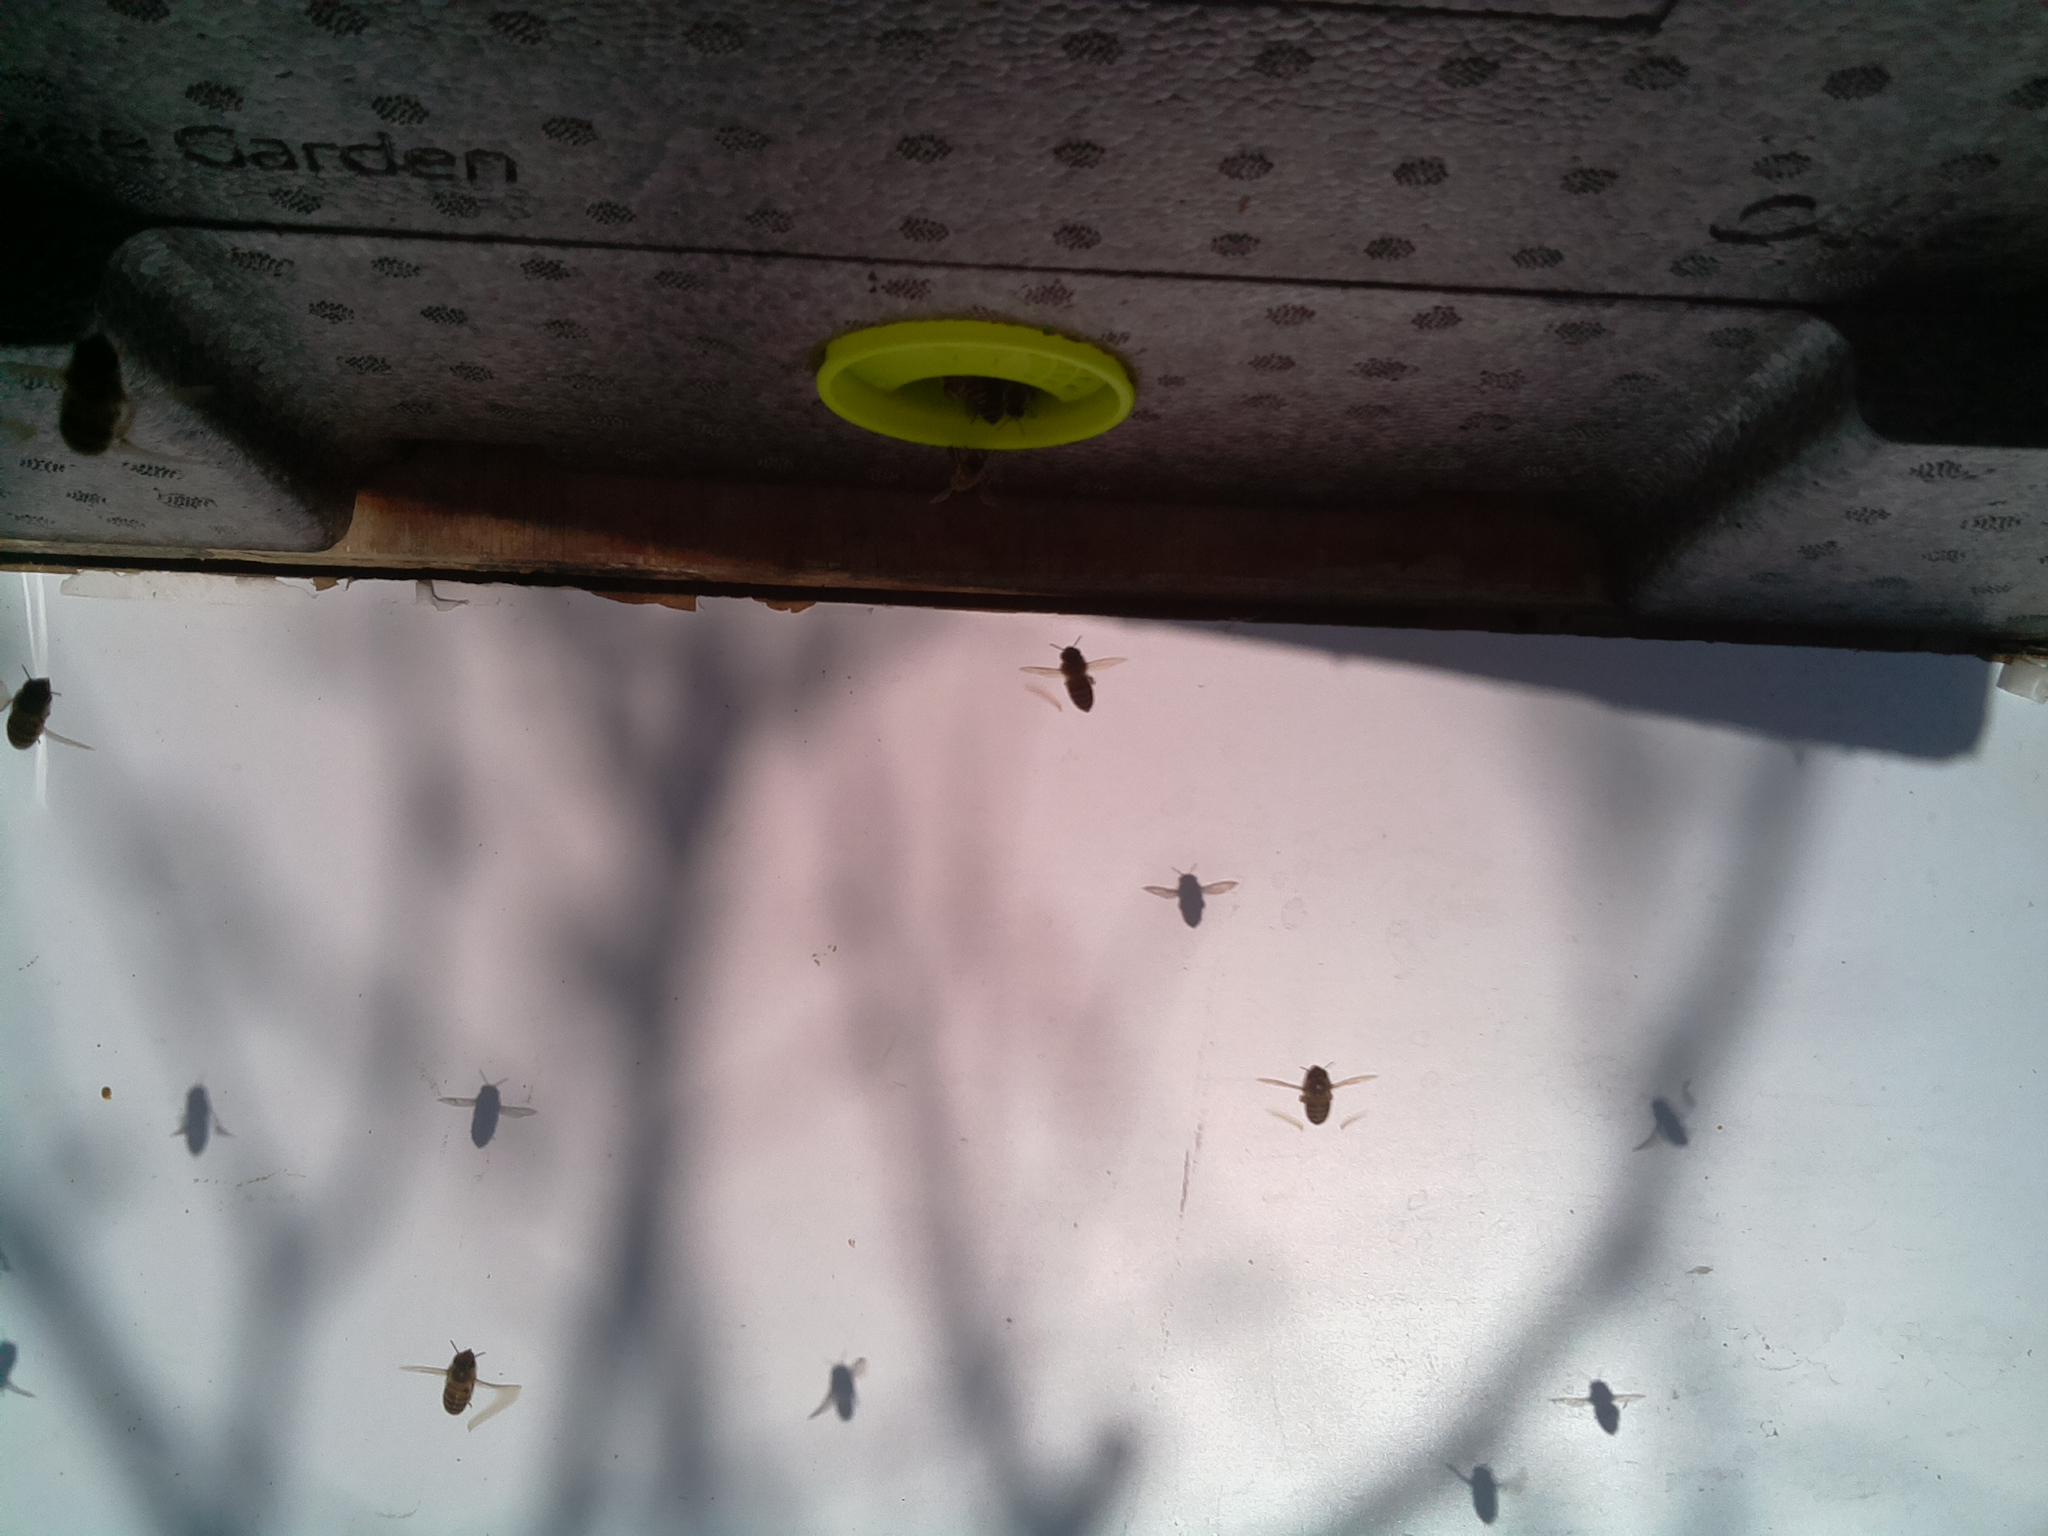bee: (1055, 644, 1099, 716), (441, 1350, 480, 1416), (1299, 1064, 1333, 1126)
